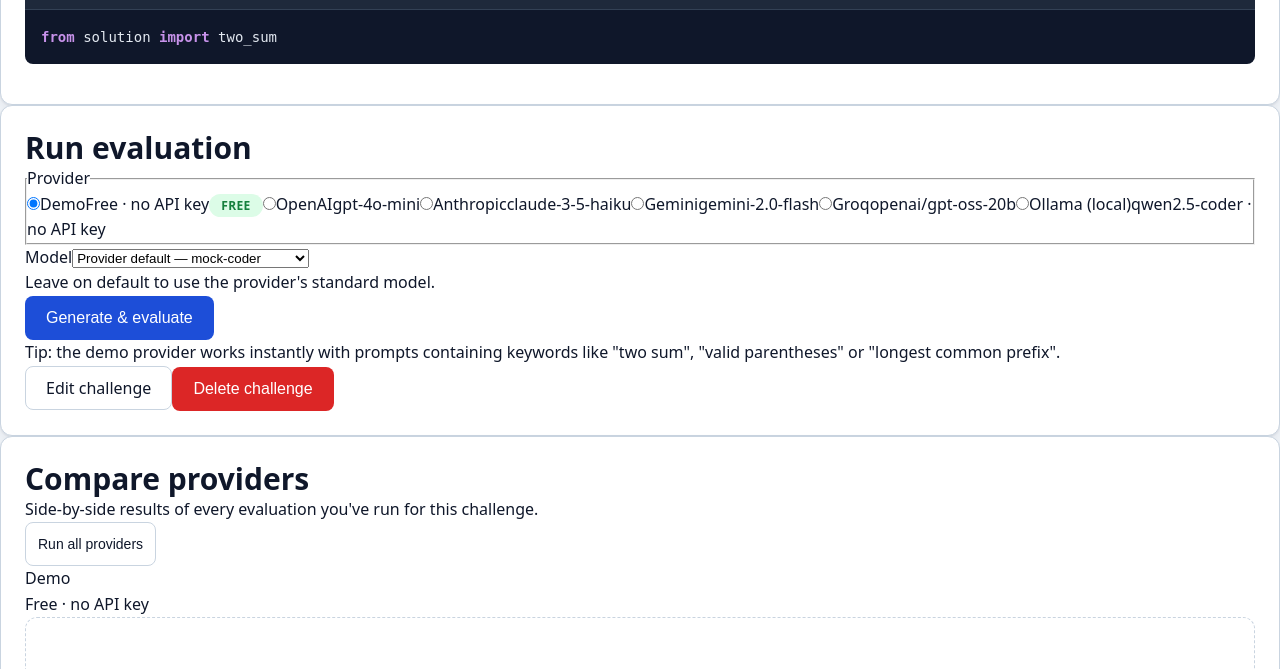
Test: ChallengeDetail › surfaces submission errors
(page scrolled)
Click the button "Generate & evaluate". click: click(119, 318)
box: 25,296 -> 214,340
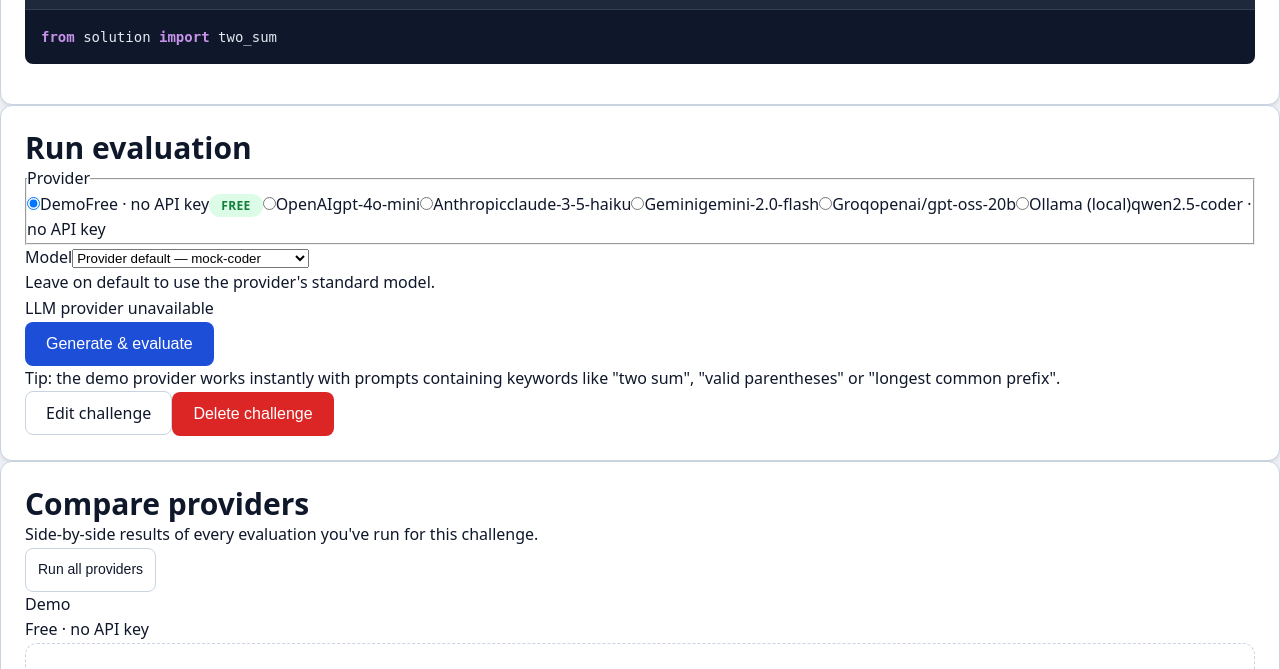
Now the message reads "LLM provider unavailable", box 25,297 -> 214,319
